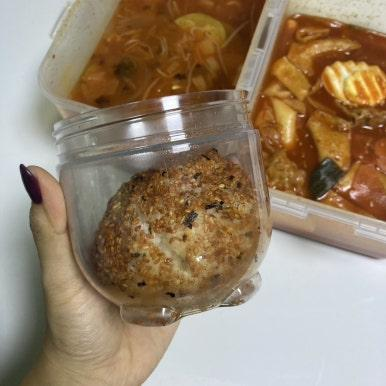Lunch Box: (253, 0, 385, 257), (38, 0, 272, 117)
